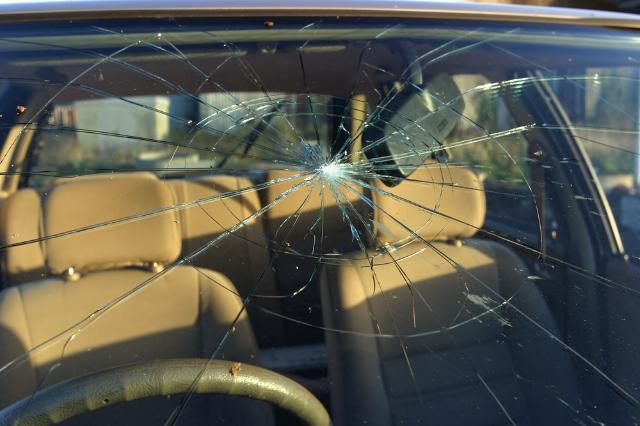glass shatter: (0, 16, 640, 426)
